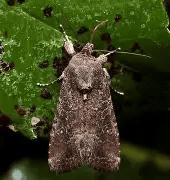army worm adult: (39, 24, 129, 174)
